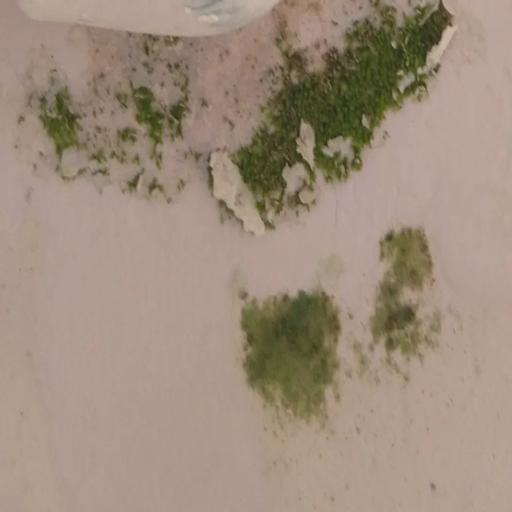algae: (22, 0, 461, 429)
